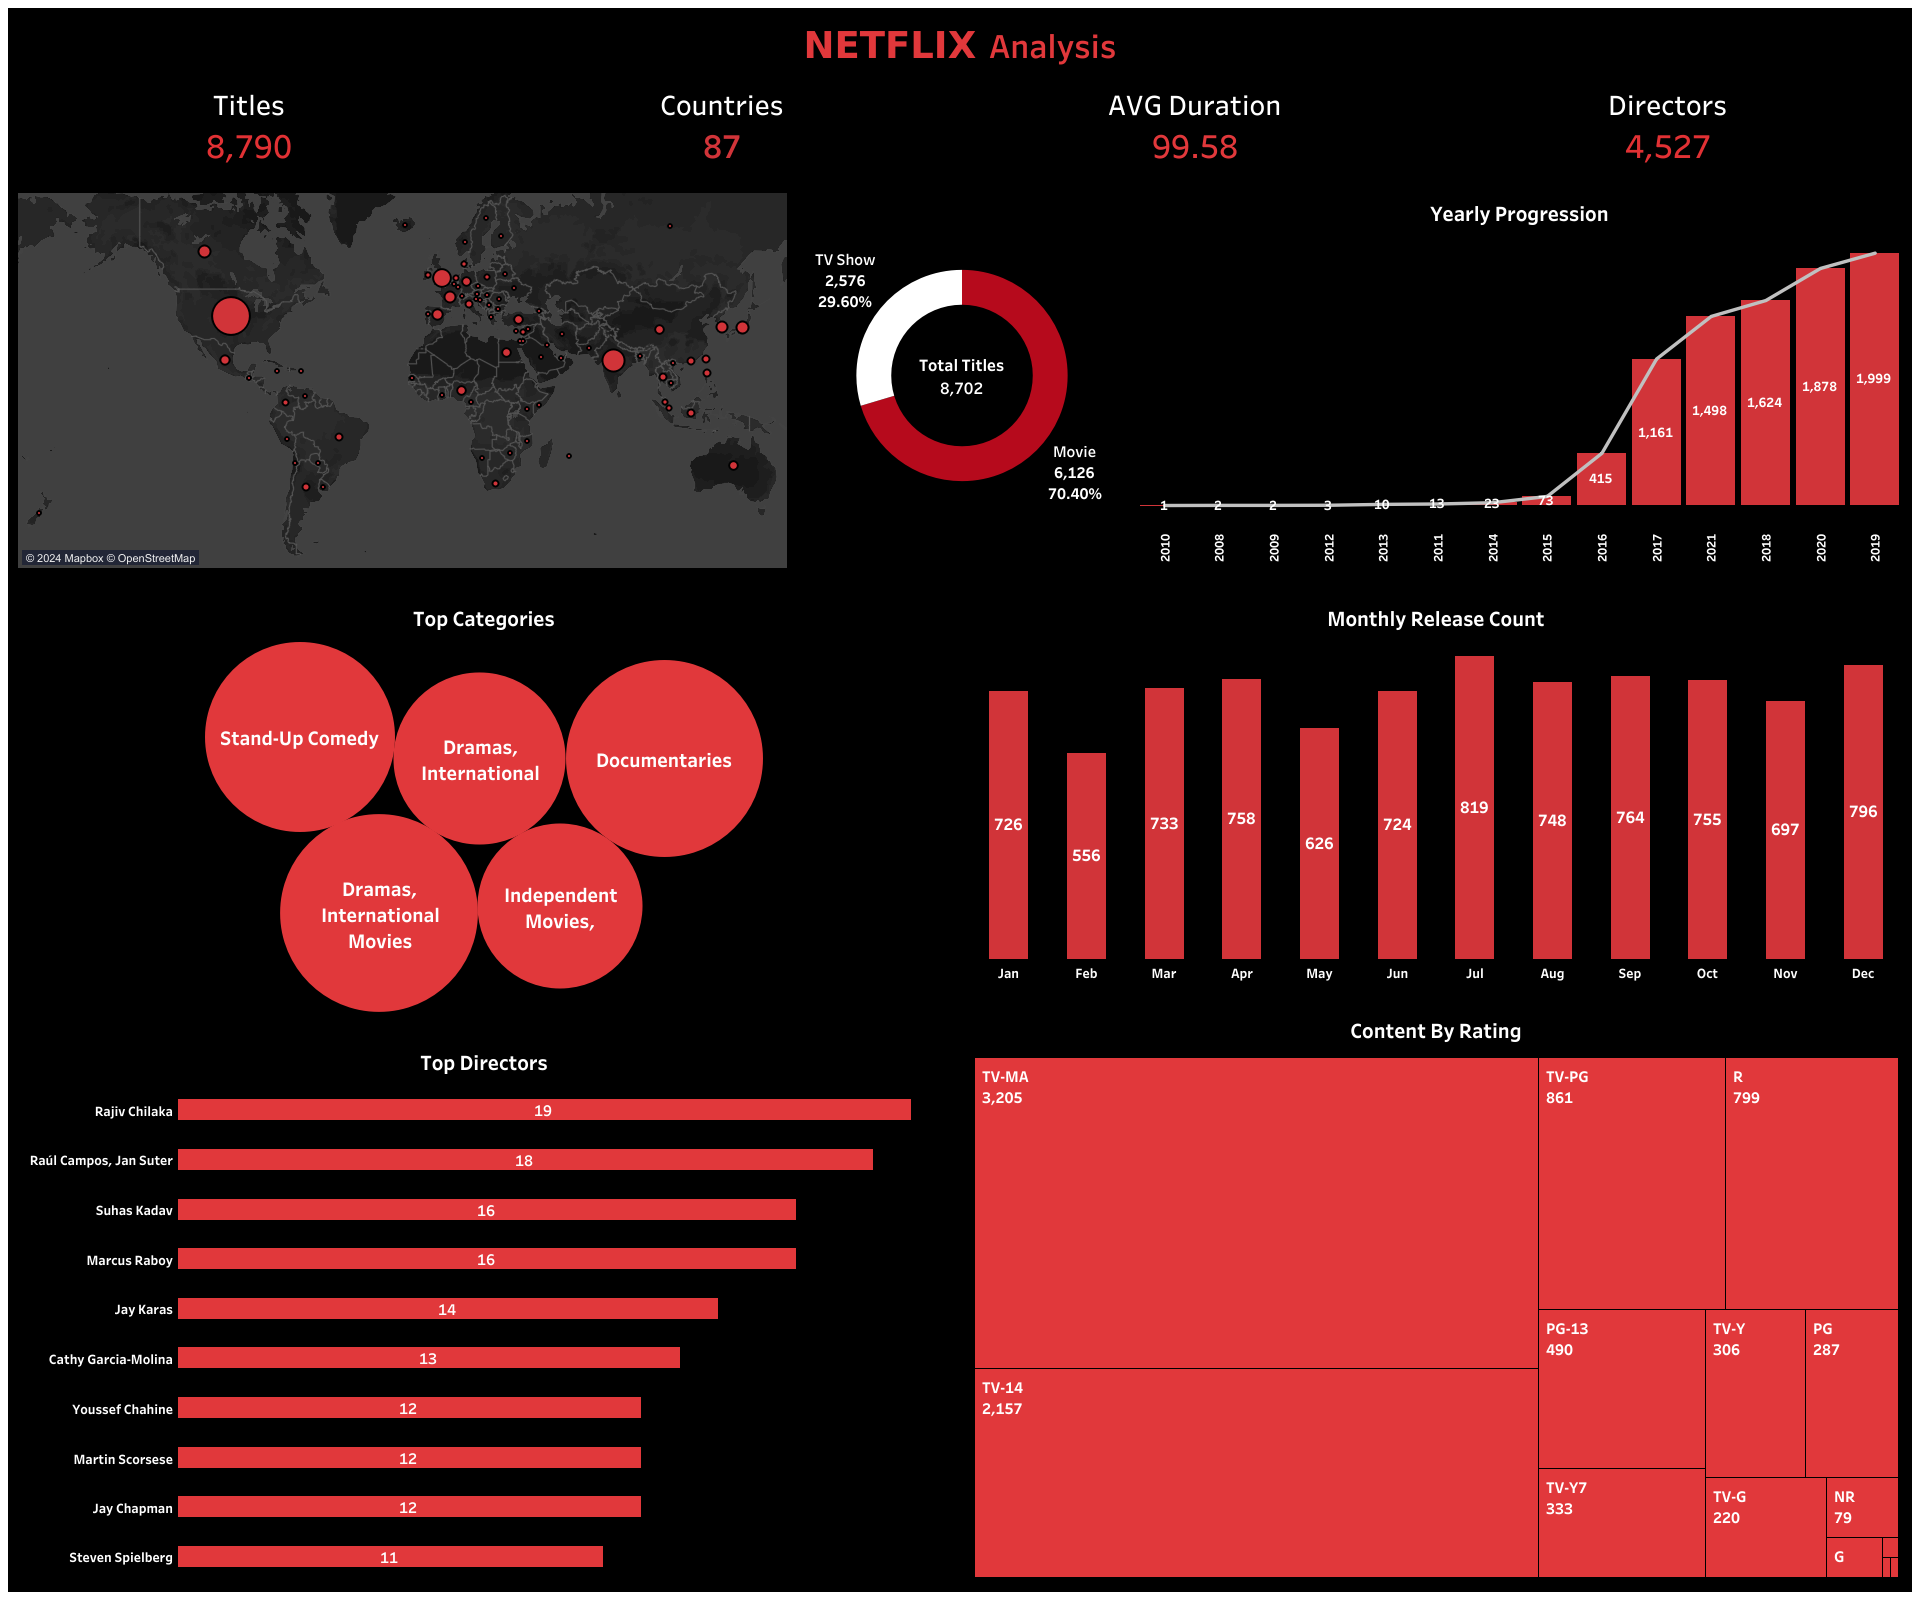

The page's visual inventory and layout, read from the dashboard file:
{"tool":"tableau","page":{"name":"Dashboard","canvas":[1920,1600],"ordinal":0},"visuals":[{"type":"text","box":[8,8,1904,74]},{"type":"worksheet","title":"KPI","mark":"Text","cols":["Calculation_1021191266570452997","Calculation_1021191266570452997","Calculation_1021191266570452997","Calculation_1021191266570452997"],"box":[8,82,1904,91]},{"type":"worksheet","title":"Country Map","mark":"Circle","box":[8,173,789,405]},{"type":"worksheet","title":"Donut Chart","mark":"Pie","cols":["Calculation_1021191266558746626","Calculation_1021191266558746626"],"box":[797,173,330,405]},{"type":"worksheet","title":"Yearly Progression","mark":"Bar","rows":["Netflix_Cleaned_new.csv_45741528E80C41D486EB4B0BCA5D2839","Netflix_Cleaned_new.csv_45741528E80C41D486EB4B0BCA5D2839"],"cols":["date_added"],"box":[1127,173,785,405]},{"type":"worksheet","title":"Top Categories","mark":"Circle","box":[8,578,952,444.2]},{"type":"worksheet","title":"Monthly Release Count","mark":"Automatic","rows":["Netflix_Cleaned_new.csv_45741528E80C41D486EB4B0BCA5D2839"],"cols":["month_added"],"box":[960,578,952,411.5]},{"type":"worksheet","title":"Content By Rating","mark":"Square","box":[960,989.5,952,602.5]},{"type":"worksheet","title":"Top Directors","mark":"Bar","rows":["director"],"cols":["Netflix_Cleaned_new.csv_45741528E80C41D486EB4B0BCA5D2839"],"box":[8,1022.2,952,569.7]}]}

Visuals, with their boxes in screenshot pixels (x1, y1, x2, y2), scaled from the page's 1920x1600 canvas onto the 1919x1599 screenshot:
text: bbox(8, 8, 1911, 82)
"KPI" worksheet (Text marks): bbox(8, 82, 1911, 173)
"Country Map" worksheet (Circle marks): bbox(8, 173, 797, 578)
"Donut Chart" worksheet (Pie marks): bbox(797, 173, 1126, 578)
"Yearly Progression" worksheet (Bar marks): bbox(1126, 173, 1911, 578)
"Top Categories" worksheet (Circle marks): bbox(8, 578, 960, 1022)
"Monthly Release Count" worksheet: bbox(960, 578, 1911, 989)
"Content By Rating" worksheet (Square marks): bbox(960, 989, 1911, 1591)
"Top Directors" worksheet (Bar marks): bbox(8, 1022, 960, 1591)
